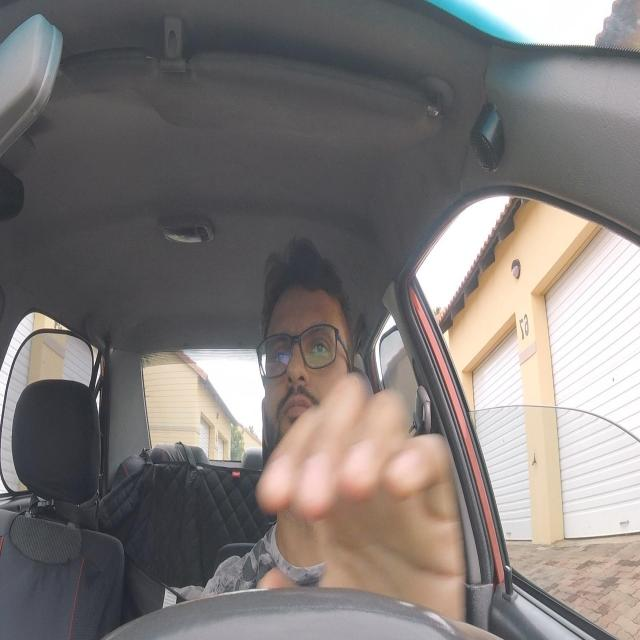open: (304, 323, 336, 365), (267, 330, 294, 372)
